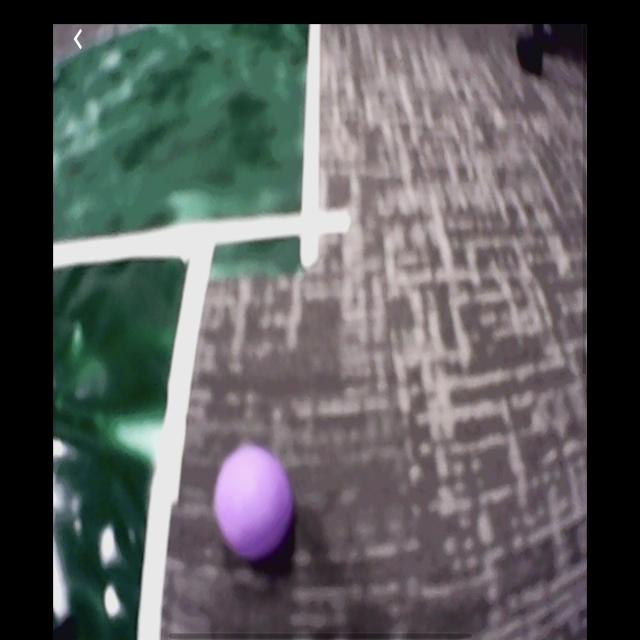ball: (213, 442, 295, 563)
